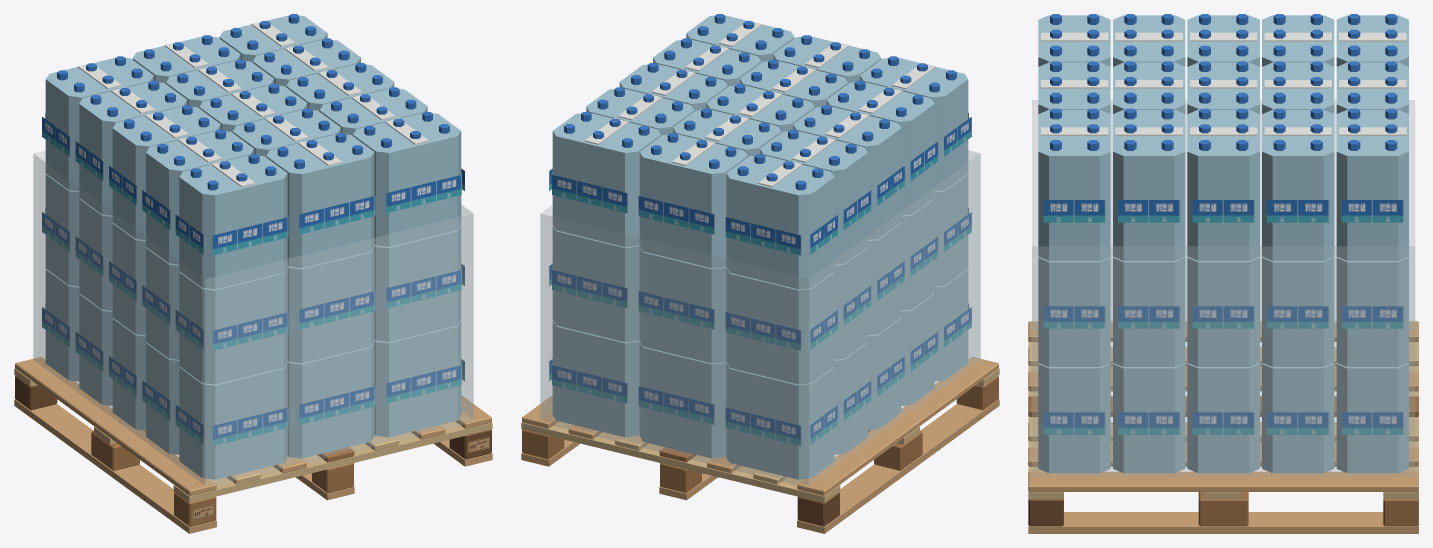
The model's file is SC_Ter_Water_Pallet.gltf.
3 views of the same model, side by side, from view 1: azimuth 30°, elevation 25°; view 2: azimuth 150°, elevation 25°; view 3: azimuth 270°, elevation 25° (orthographic). The views are drawn at different scales.
Visible parts, largest first — view 1: SC_Ter_Water_Pallet; view 2: SC_Ter_Water_Pallet; view 3: SC_Ter_Water_Pallet.
Part boxes in pixels (x1,y1,x2,y2): SC_Ter_Water_Pallet: (14,14,492,533); SC_Ter_Water_Pallet: (521,14,999,533); SC_Ter_Water_Pallet: (1028,14,1418,533).
Bounding box in the file's own units: 1.1 × 1.16 × 1.1.
3 materials, 3 textured.
